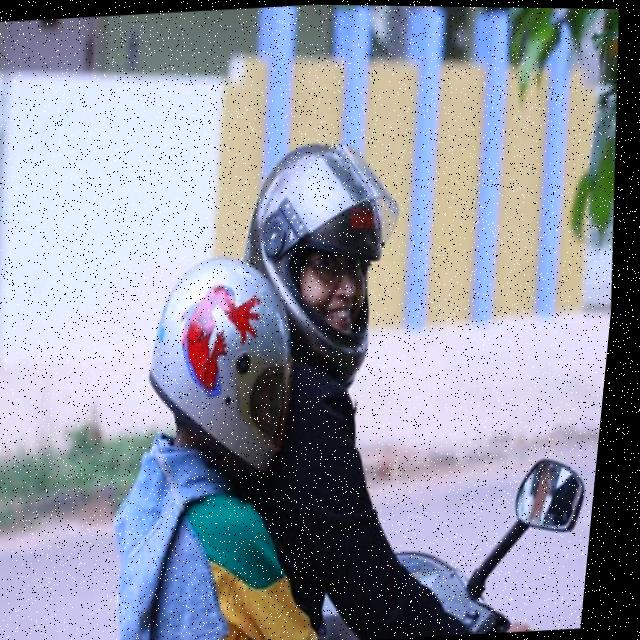helmet: (220, 125, 425, 399), (133, 242, 321, 492)
